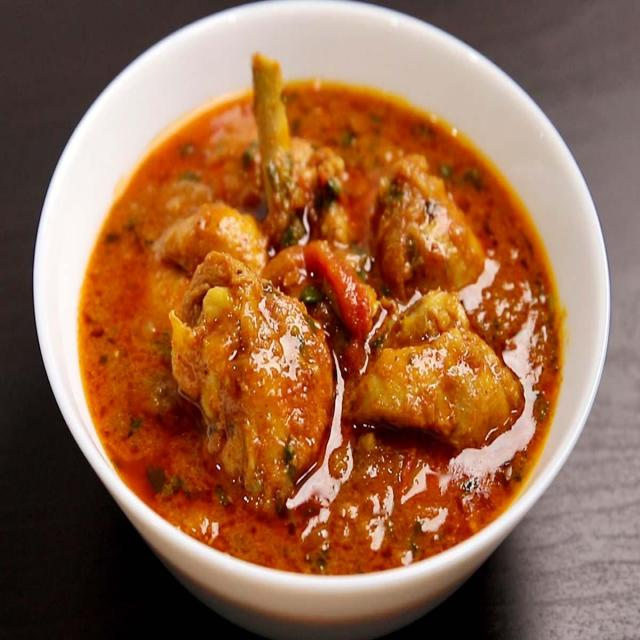chicken: (83, 81, 571, 558)
